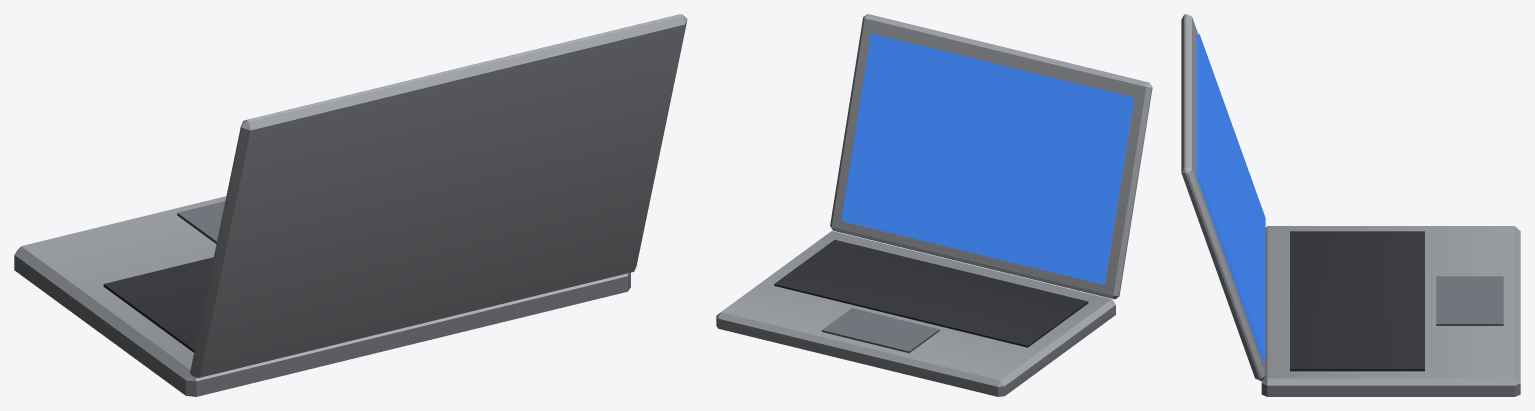
Rendered from laptop_open_01.glb.
3 views of the same model, side by side, from view 1: azimuth 30°, elevation 25°; view 2: azimuth 150°, elevation 25°; view 3: azimuth 270°, elevation 25° (orthographic). The views are drawn at different scales.
Parts seen in each view (by area): view 1: laptop_open_01_mesh; view 2: laptop_open_01_mesh, laptop_open_01_screen; view 3: laptop_open_01_mesh, laptop_open_01_screen.
Part boxes in pixels (<box>): laptop_open_01_mesh: <box>14,14,687,396</box>; laptop_open_01_mesh: <box>716,14,1152,396</box>; laptop_open_01_screen: <box>841,34,1134,284</box>; laptop_open_01_mesh: <box>1181,14,1520,396</box>; laptop_open_01_screen: <box>1196,34,1265,361</box>.
Bounding box in the file's own units: 0.33 × 0.2235 × 0.3015.
2 materials, 2 textured.
